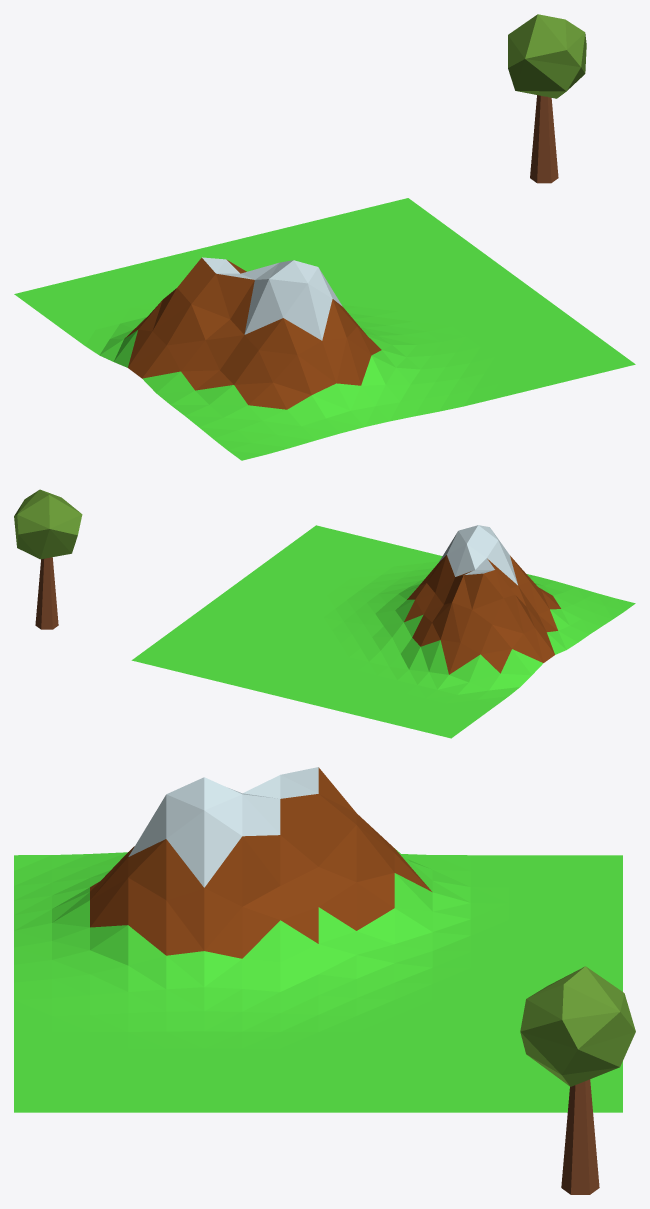
Rendered from tree.fbx.
The picture shows the model from 3 angles, top to bottom: view 1: azimuth 30°, elevation 25°; view 2: azimuth 150°, elevation 25°; view 3: azimuth 270°, elevation 25°; orthographic projection. The views are drawn at different scales.
Visible parts, largest first — view 1: Plane, Icosphere, Cylinder; view 2: Plane, Icosphere, Cylinder; view 3: Plane, Icosphere, Cylinder.
Part boxes in pixels (x1,y1,x2,y2): Plane: (14, 198, 635, 460); Icosphere: (508, 14, 586, 98); Cylinder: (530, 95, 558, 183); Plane: (131, 525, 635, 738); Icosphere: (14, 489, 82, 559); Cylinder: (35, 557, 58, 629); Plane: (14, 767, 622, 1112); Icosphere: (520, 966, 635, 1086); Cylinder: (561, 1079, 599, 1194).
Bounding box in the file's own units: 1473 × 420 × 1067.
